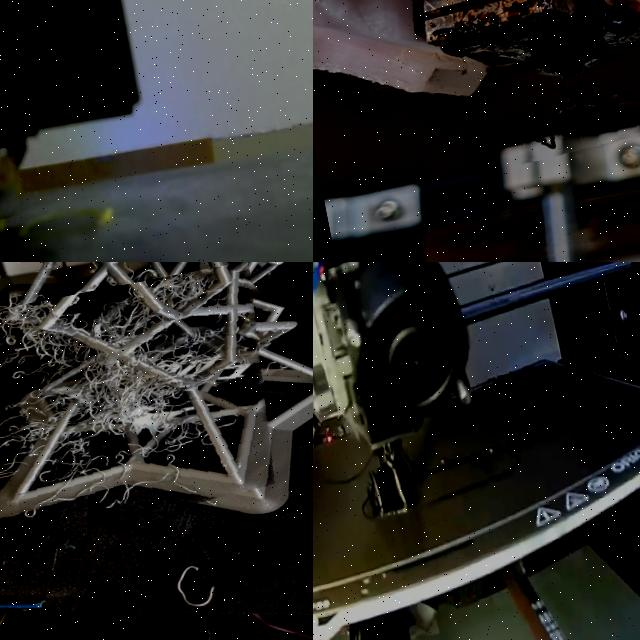spaghetti: (0, 262, 296, 573), (506, 63, 640, 165)
